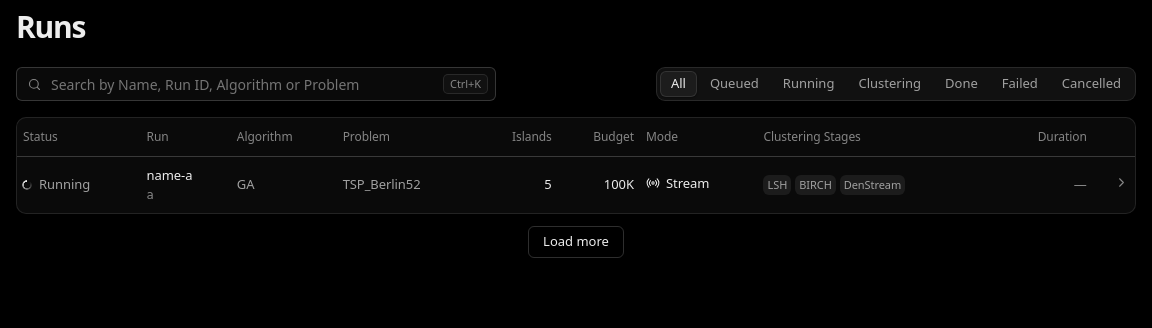
RunsPage › keeps the further pages through a refresh, and shows the refreshed statuses
What coordinates should you click on to do the following:
click the button "Load more"
I would click on:
 (576, 242)
Its box is 528,226 -> 624,258.
Wait 10000 ms
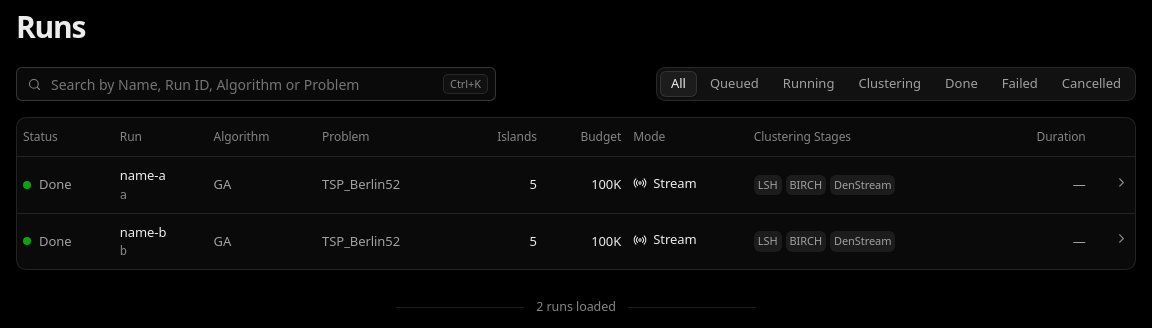
Expected: the 2nd row shows "done", 39,175 -> 72,193
